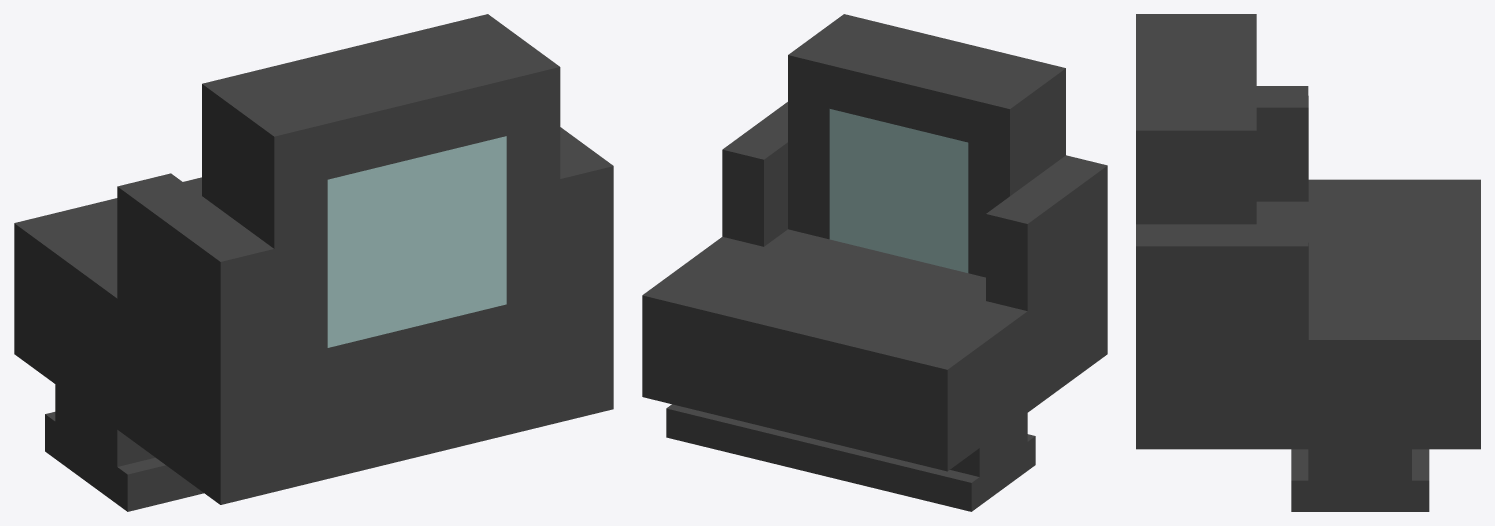
File: heavy_pistol_holoSight.fbx
3 renders of one model, left to right at view 1: azimuth 30°, elevation 25°; view 2: azimuth 150°, elevation 25°; view 3: azimuth 270°, elevation 25°, orthographic. The views are drawn at different scales.
Visible parts, largest first — view 1: heavy_pistol_defaultSight; view 2: heavy_pistol_defaultSight; view 3: heavy_pistol_defaultSight.
Part boxes in pixels (x1,y1,x2,y2): heavy_pistol_defaultSight: [14, 14, 613, 511]; heavy_pistol_defaultSight: [642, 14, 1107, 511]; heavy_pistol_defaultSight: [1136, 14, 1480, 511].
Bounding box in the file's own units: 6.6 × 6.9 × 6.
